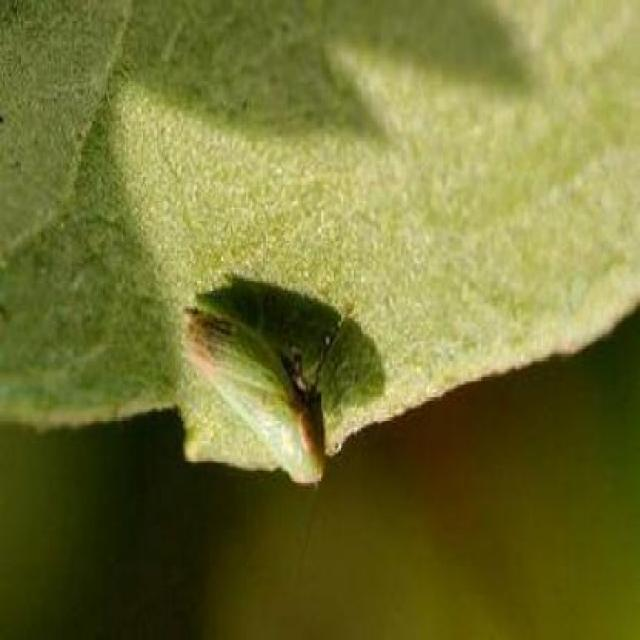green-leafhopper: (183, 297, 339, 491)
